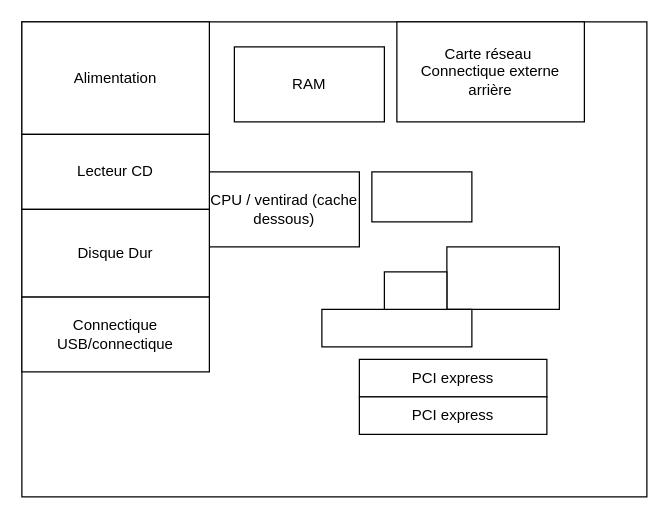
The diagram is 669 pixels wide and 519 high, and some of its shapes have lost their labels. The box of each missing label's shape, as (x1, y1, x2, y2) in pixels:
Horloge interne: (383, 271, 447, 309)
PCI: (321, 308, 472, 347)
Pont nord: (371, 171, 472, 222)
Pont sud: (446, 246, 559, 309)
